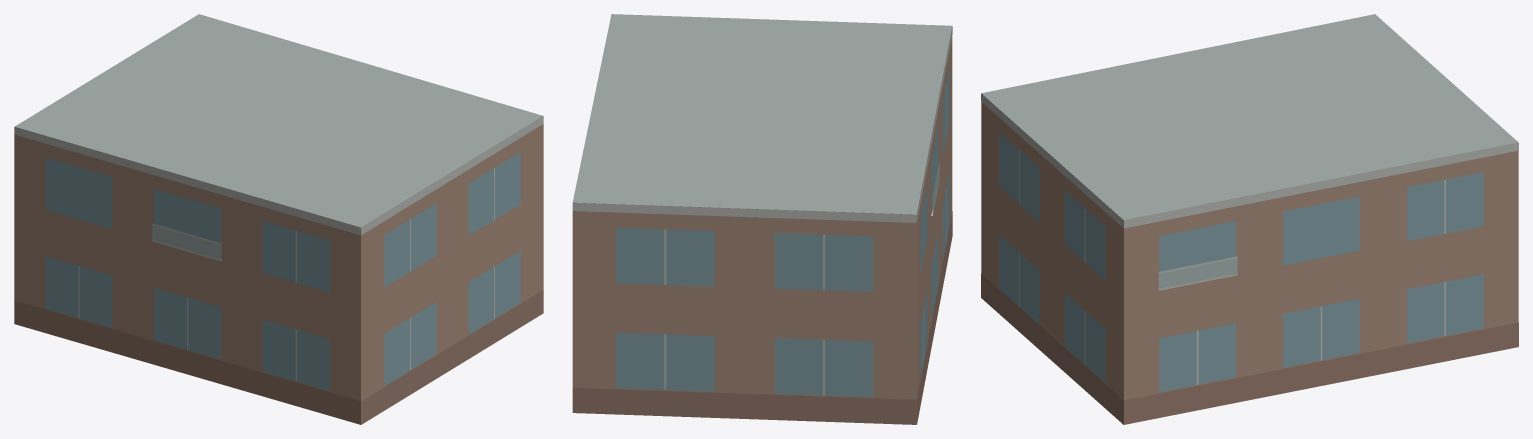
The model's file is survey-upis-32604366.glb.
The picture shows the model from 3 angles, left to right: view 1: azimuth 30°, elevation 25°; view 2: azimuth 150°, elevation 25°; view 3: azimuth 270°, elevation 25°; orthographic projection. The views are drawn at different scales.
Parts seen in each view (by area): view 1: survey-upis-32604366.tmp; view 2: survey-upis-32604366.tmp; view 3: survey-upis-32604366.tmp.
Boxes of the visible parts, bbox=[...] form: survey-upis-32604366.tmp: bbox=[14, 14, 543, 424]; survey-upis-32604366.tmp: bbox=[572, 14, 952, 424]; survey-upis-32604366.tmp: bbox=[981, 14, 1518, 424].
Bounding box in the file's own units: 13.2 × 6.1 × 14.54.
